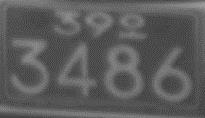3: (9, 38, 50, 95), (53, 8, 80, 37)
4: (56, 41, 97, 97)
6: (151, 45, 194, 103)
8: (102, 42, 144, 99)
9: (84, 9, 112, 38)
오: (117, 11, 149, 39)
